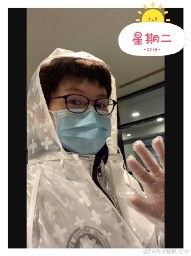correctlyWear: (48, 81, 116, 153)
